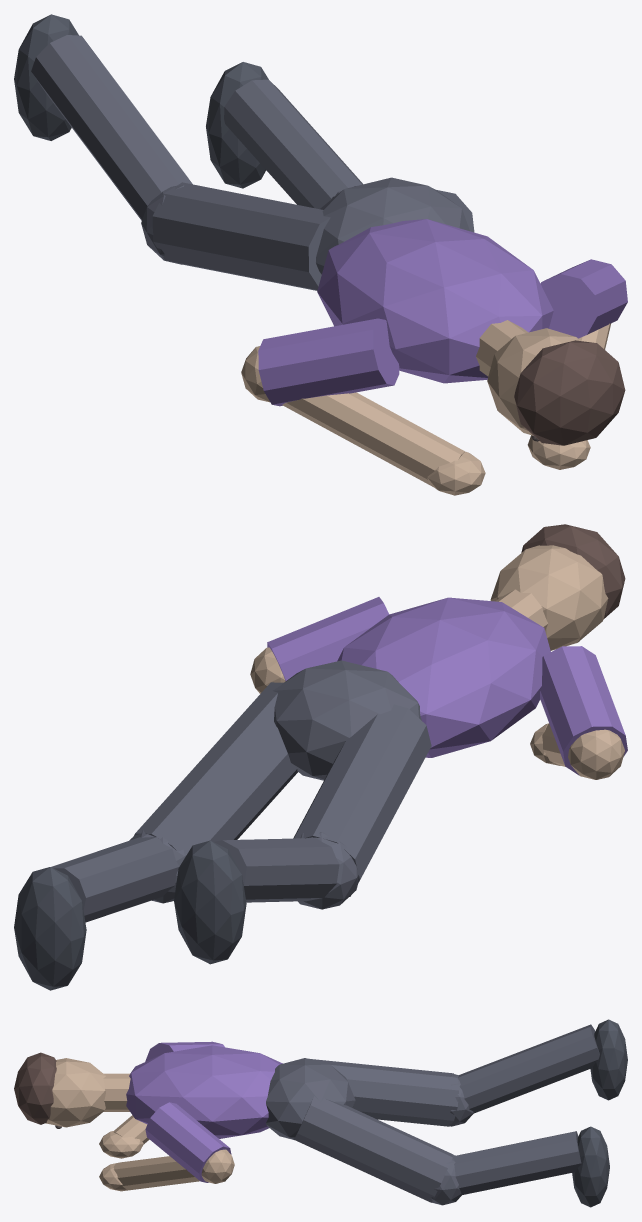
3 views of the same model, one above another, from view 1: azimuth 30°, elevation 25°; view 2: azimuth 150°, elevation 25°; view 3: azimuth 270°, elevation 25° (orthographic). The views are drawn at different scales.
Parts seen in each view (by area): view 1: world; view 2: world; view 3: world.
Part boxes in pixels (left/top/right/bottom): world: left=14, top=14, right=627, bottom=495; world: left=14, top=524, right=627, bottom=990; world: left=14, top=1019, right=627, bottom=1207.
Size of the model in its own units: 0.93 by 0.4905 by 2.06.
